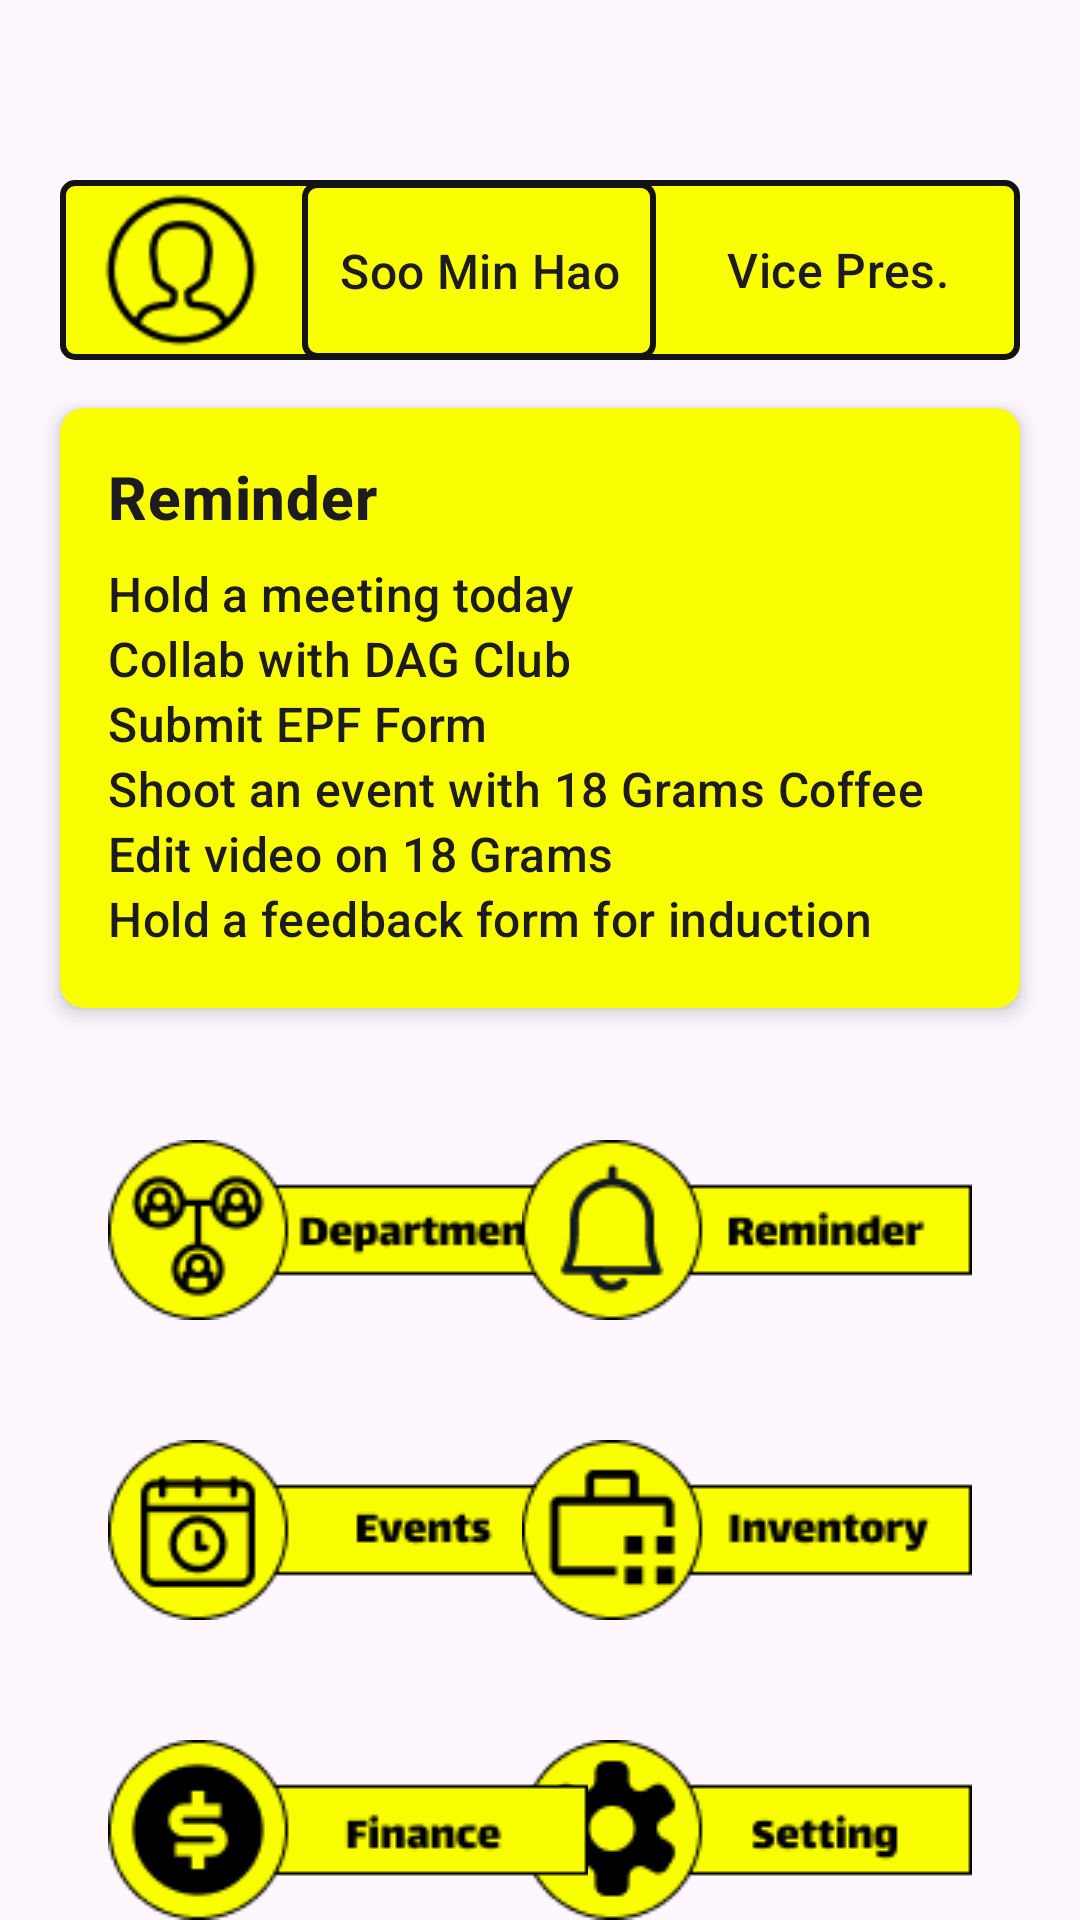

Point at icon controls on the screen. Image size 1080*1920, points as point (x, y).
profile: point (181, 270)
